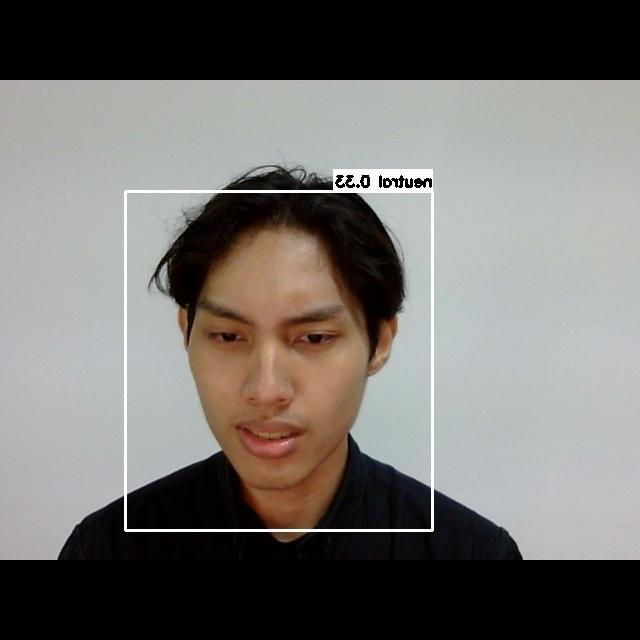Angry: (176, 279, 373, 474)
